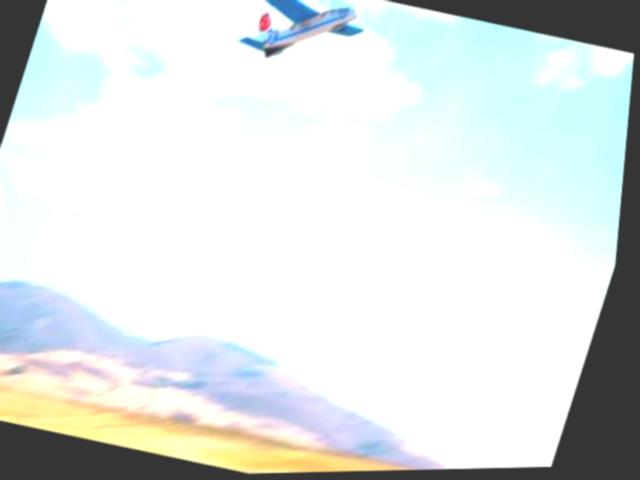uav: (219, 0, 376, 82)
